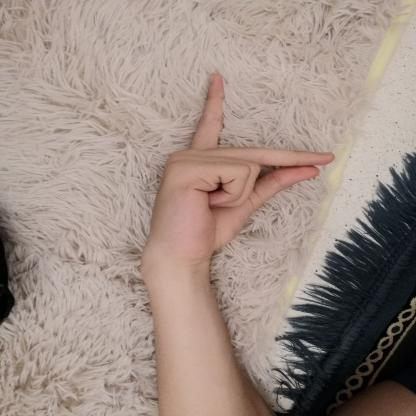TAA: (128, 63, 346, 276)
